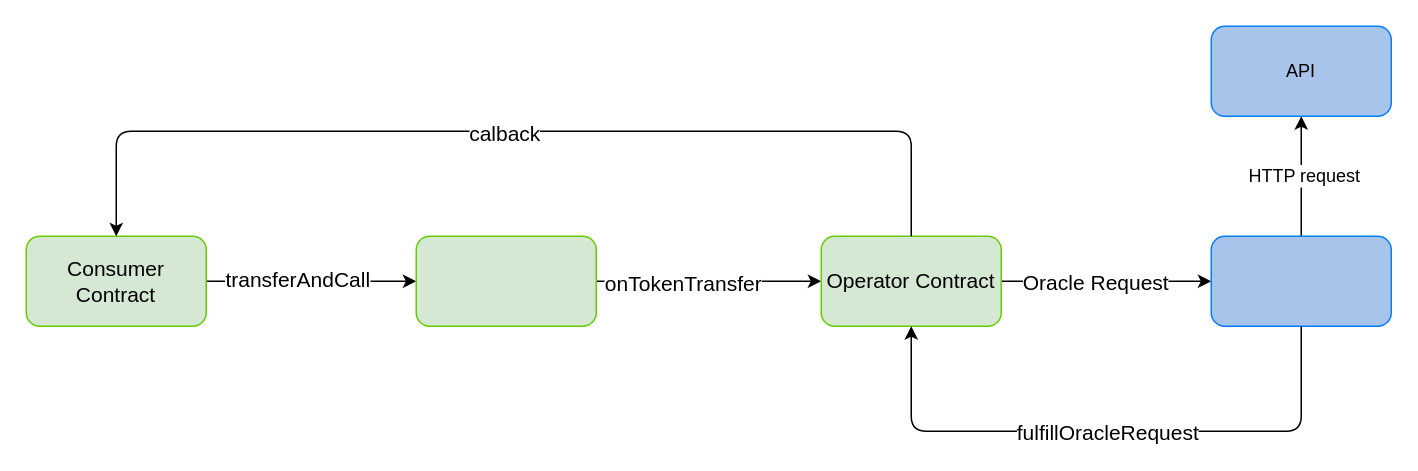
The diagram is 1418 pixels wide and 471 high, and some of its shapes have lost their labels. The shapes that lost their labels are listed below. From the top down, each one's box as (x1, y1, x2, y2) in pixels, then its label:
(415, 235, 596, 326): LinkToken
(1210, 235, 1391, 326): Oracle Node
